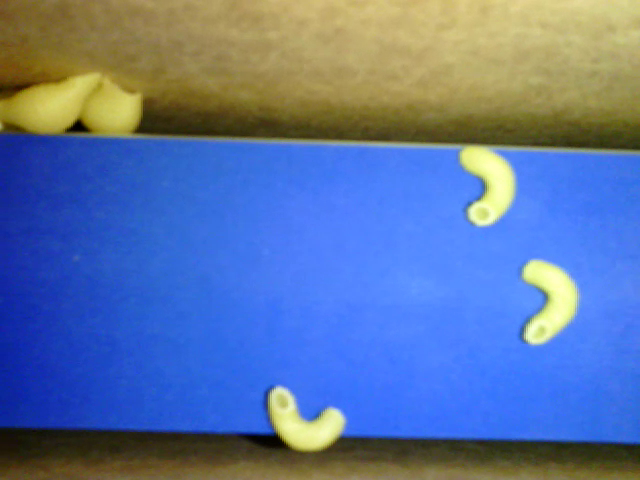elbow: (516, 258, 580, 346), (264, 387, 346, 453), (457, 144, 519, 226)
shell: (1, 65, 99, 133), (75, 79, 149, 136)
